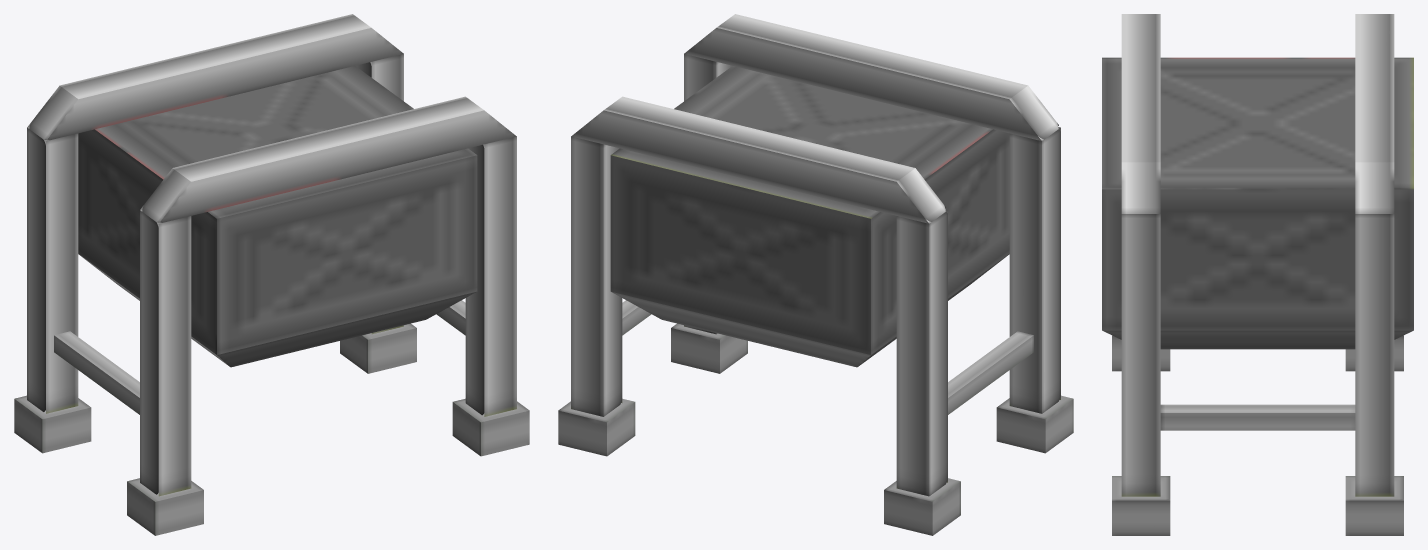
The model's file is slider.obj.
3 views of the same model, side by side, from view 1: azimuth 30°, elevation 25°; view 2: azimuth 150°, elevation 25°; view 3: azimuth 270°, elevation 25° (orthographic). The views are drawn at different scales.
Bounding box in the file's own units: 2.88 × 2.5 × 2.
